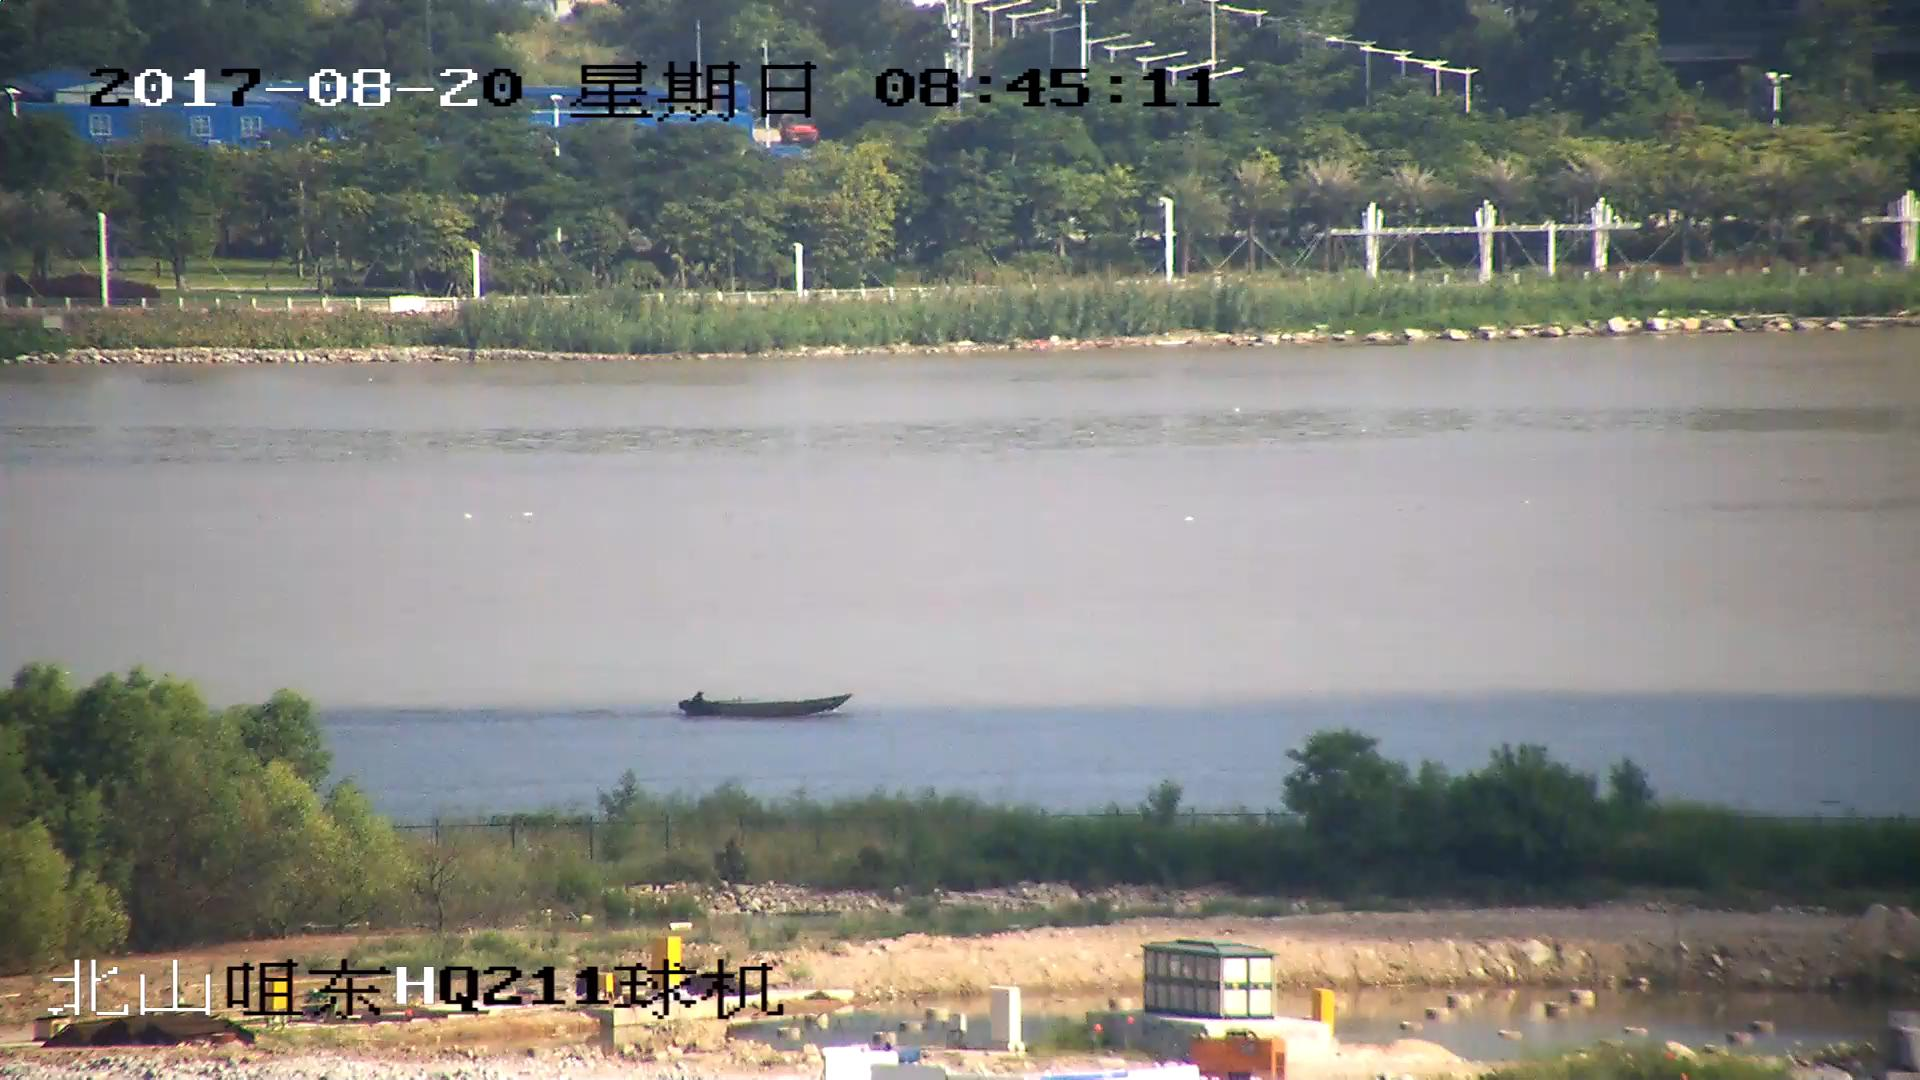fishing boat: (675, 686, 852, 720)
